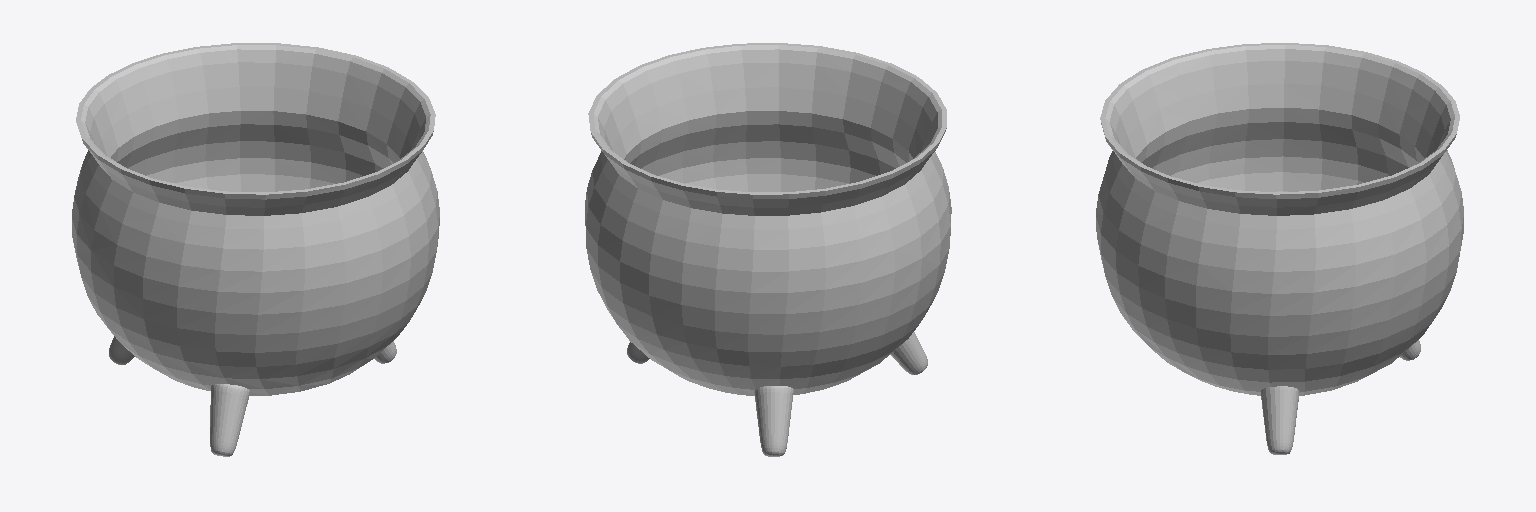
Rendered from Cauldron.obj.
3 renders of one model, left to right at view 1: azimuth 30°, elevation 25°; view 2: azimuth 150°, elevation 25°; view 3: azimuth 270°, elevation 25°, orthographic.
Visible parts, largest first — view 1: pSphere2; view 2: pSphere2; view 3: pSphere2.
Part boxes in pixels (x1,y1,x2,y2): pSphere2: (72,43,439,456); pSphere2: (585,43,951,456); pSphere2: (1096,43,1463,454).
Size of the model in its own units: 30.13 by 24.81 by 30.16.